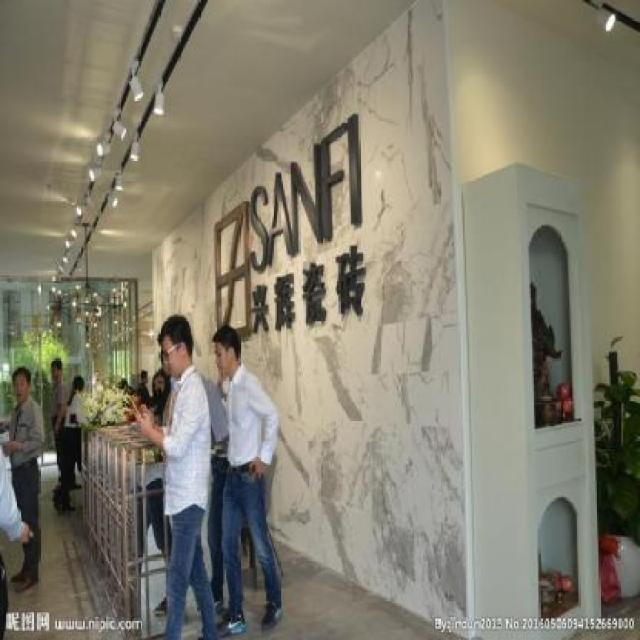frontdesk: (72, 403, 265, 640)
